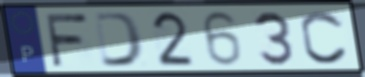2: (149, 9, 197, 69)
3: (250, 8, 297, 67)
6: (202, 9, 245, 68)
C: (298, 9, 351, 66)
D: (92, 10, 147, 68)
F: (42, 11, 90, 68)
